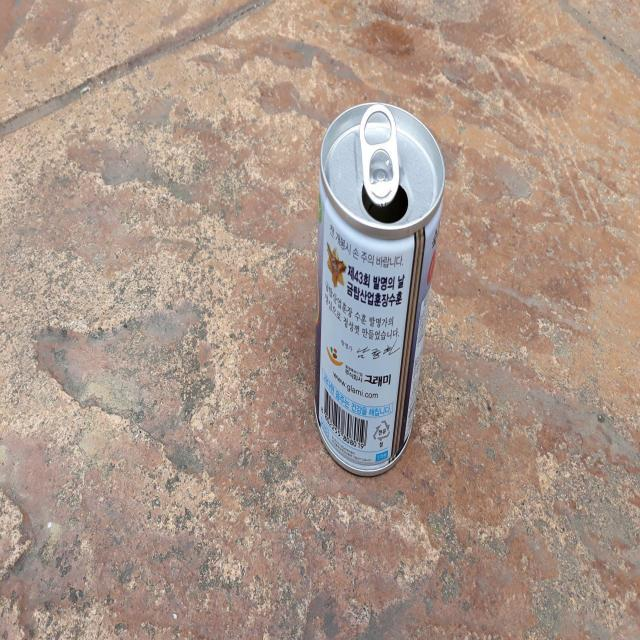can: (315, 102, 445, 474)
